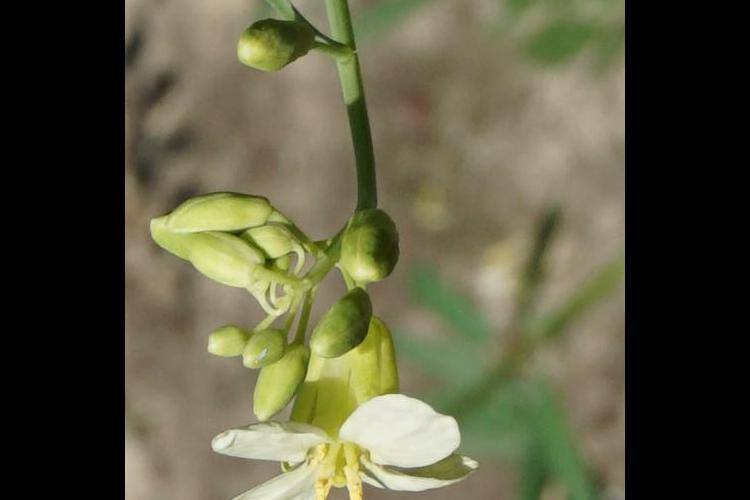bud: (146, 188, 304, 299), (236, 5, 322, 79), (247, 340, 309, 428), (339, 205, 402, 282), (313, 297, 378, 368), (238, 316, 293, 371), (210, 315, 256, 367)
white: (225, 398, 462, 500)
